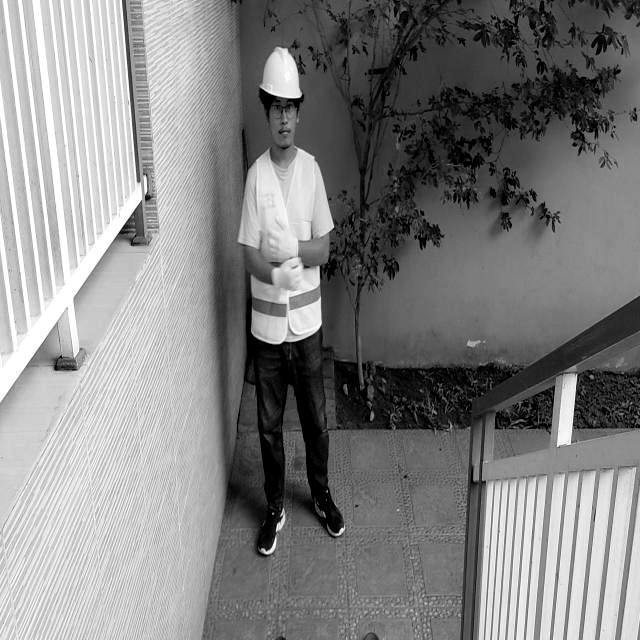No-Boots: (308, 484, 350, 542), (251, 504, 284, 559)
Vest: (249, 146, 327, 346)
